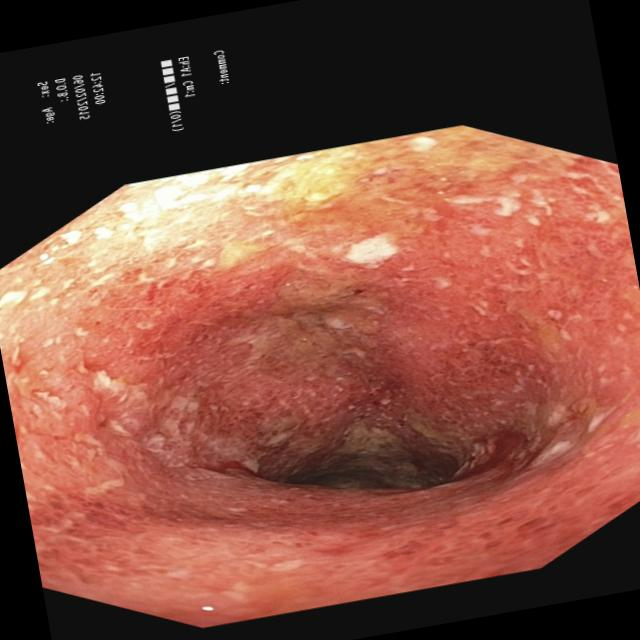ulcerative-colities: (0, 120, 640, 627)
